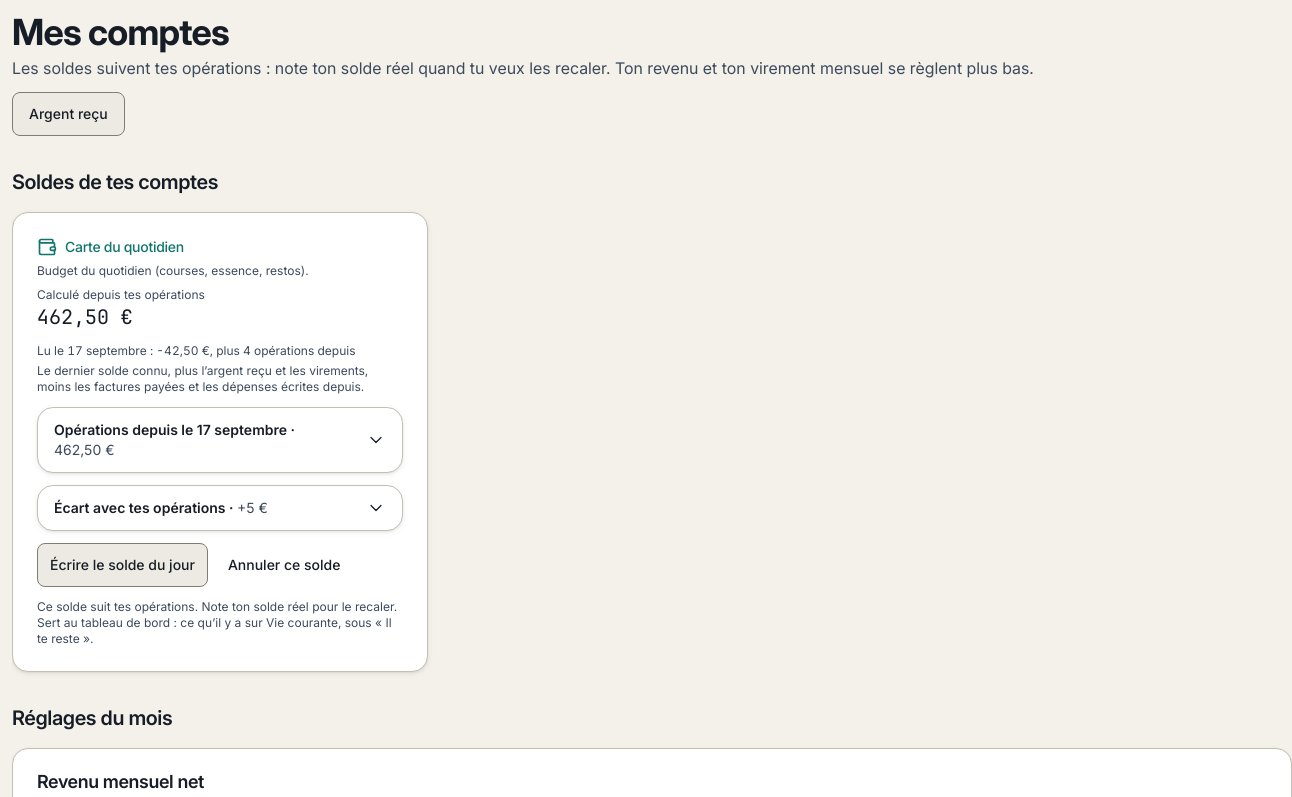
AccountsClient — un solde lu, daté, et nommé pour ce qu’il est › dit « de plus que prévu » quand le compte a plus que l’attendu
Click the button "Écart avec tes opérations · +5 €". click: (220, 508)
box: [38, 486, 402, 530]
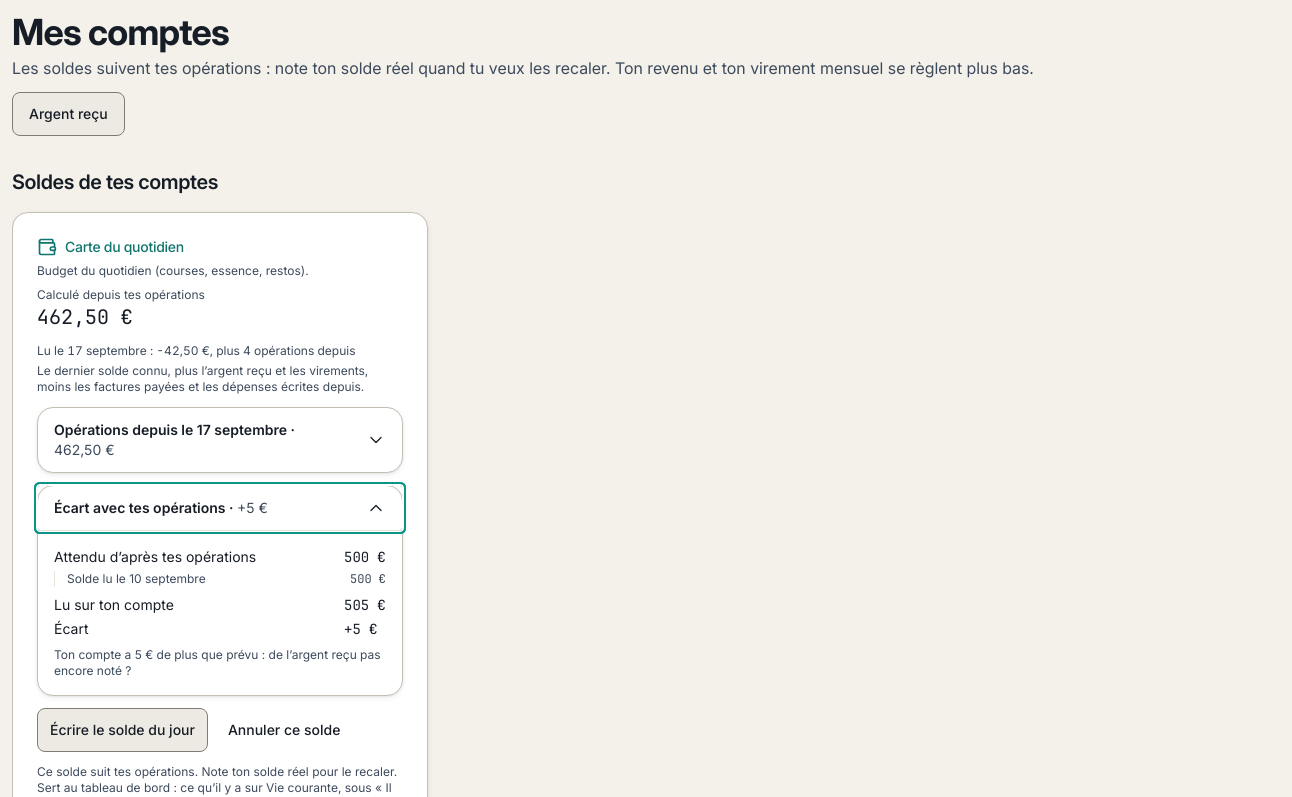
Check: the list item "Solde lu le 10 septembre 500 €" is shown, box [67, 571, 386, 587]
